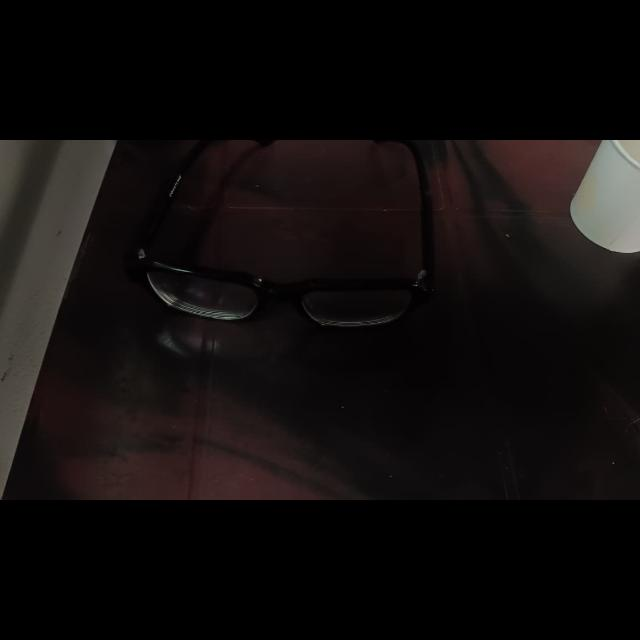glasses: (129, 140, 433, 326)
